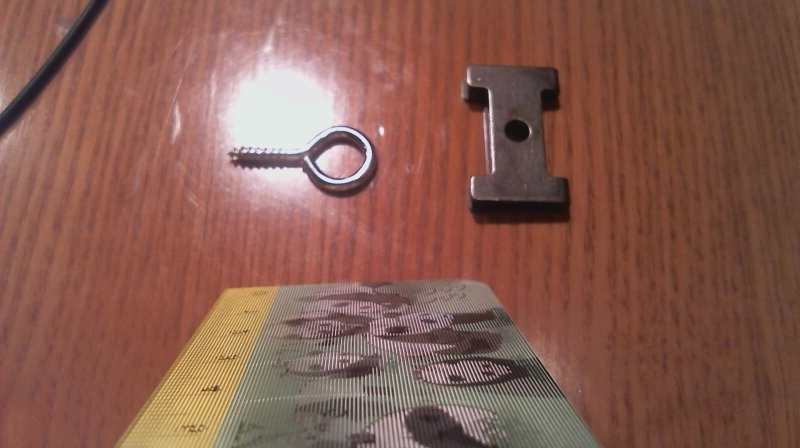O001: (223, 123, 382, 195)
O002: (461, 60, 575, 225)
